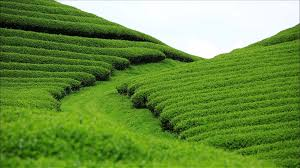field: (9, 12, 300, 165)
